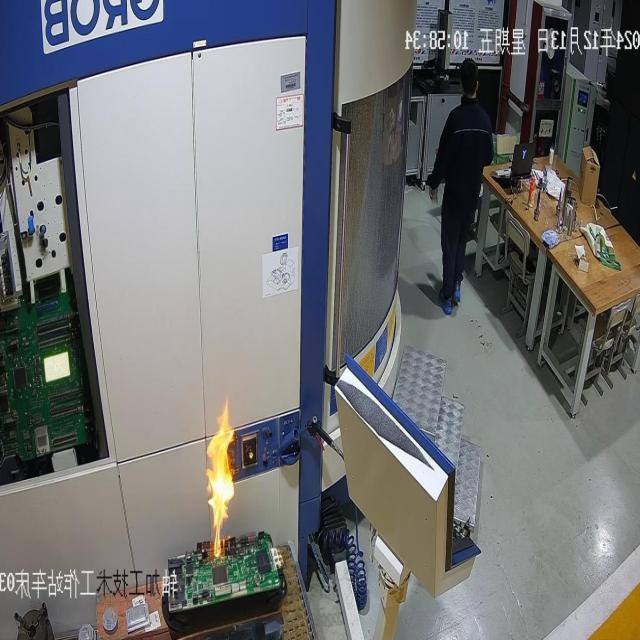smoke: (205, 398, 237, 556)
